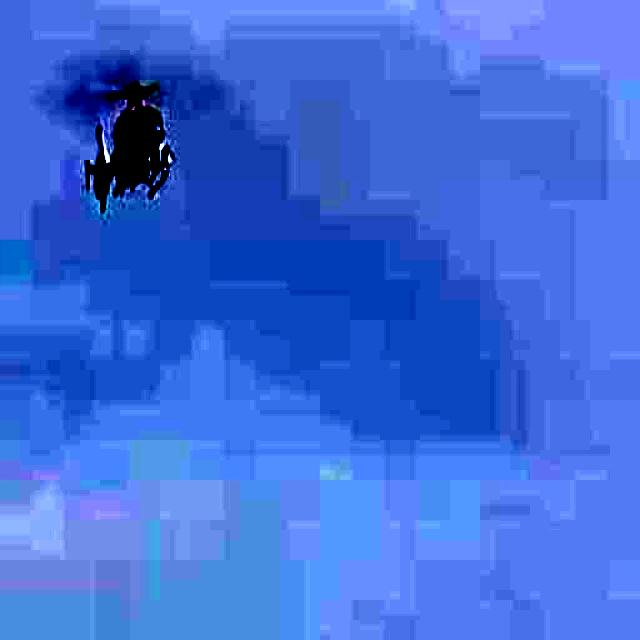drone: (62, 50, 216, 226)
